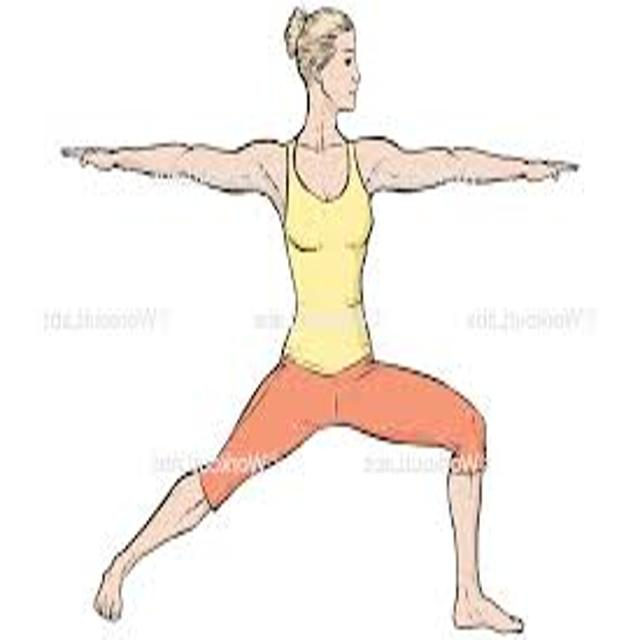Warrior_II: (53, 12, 582, 634)
